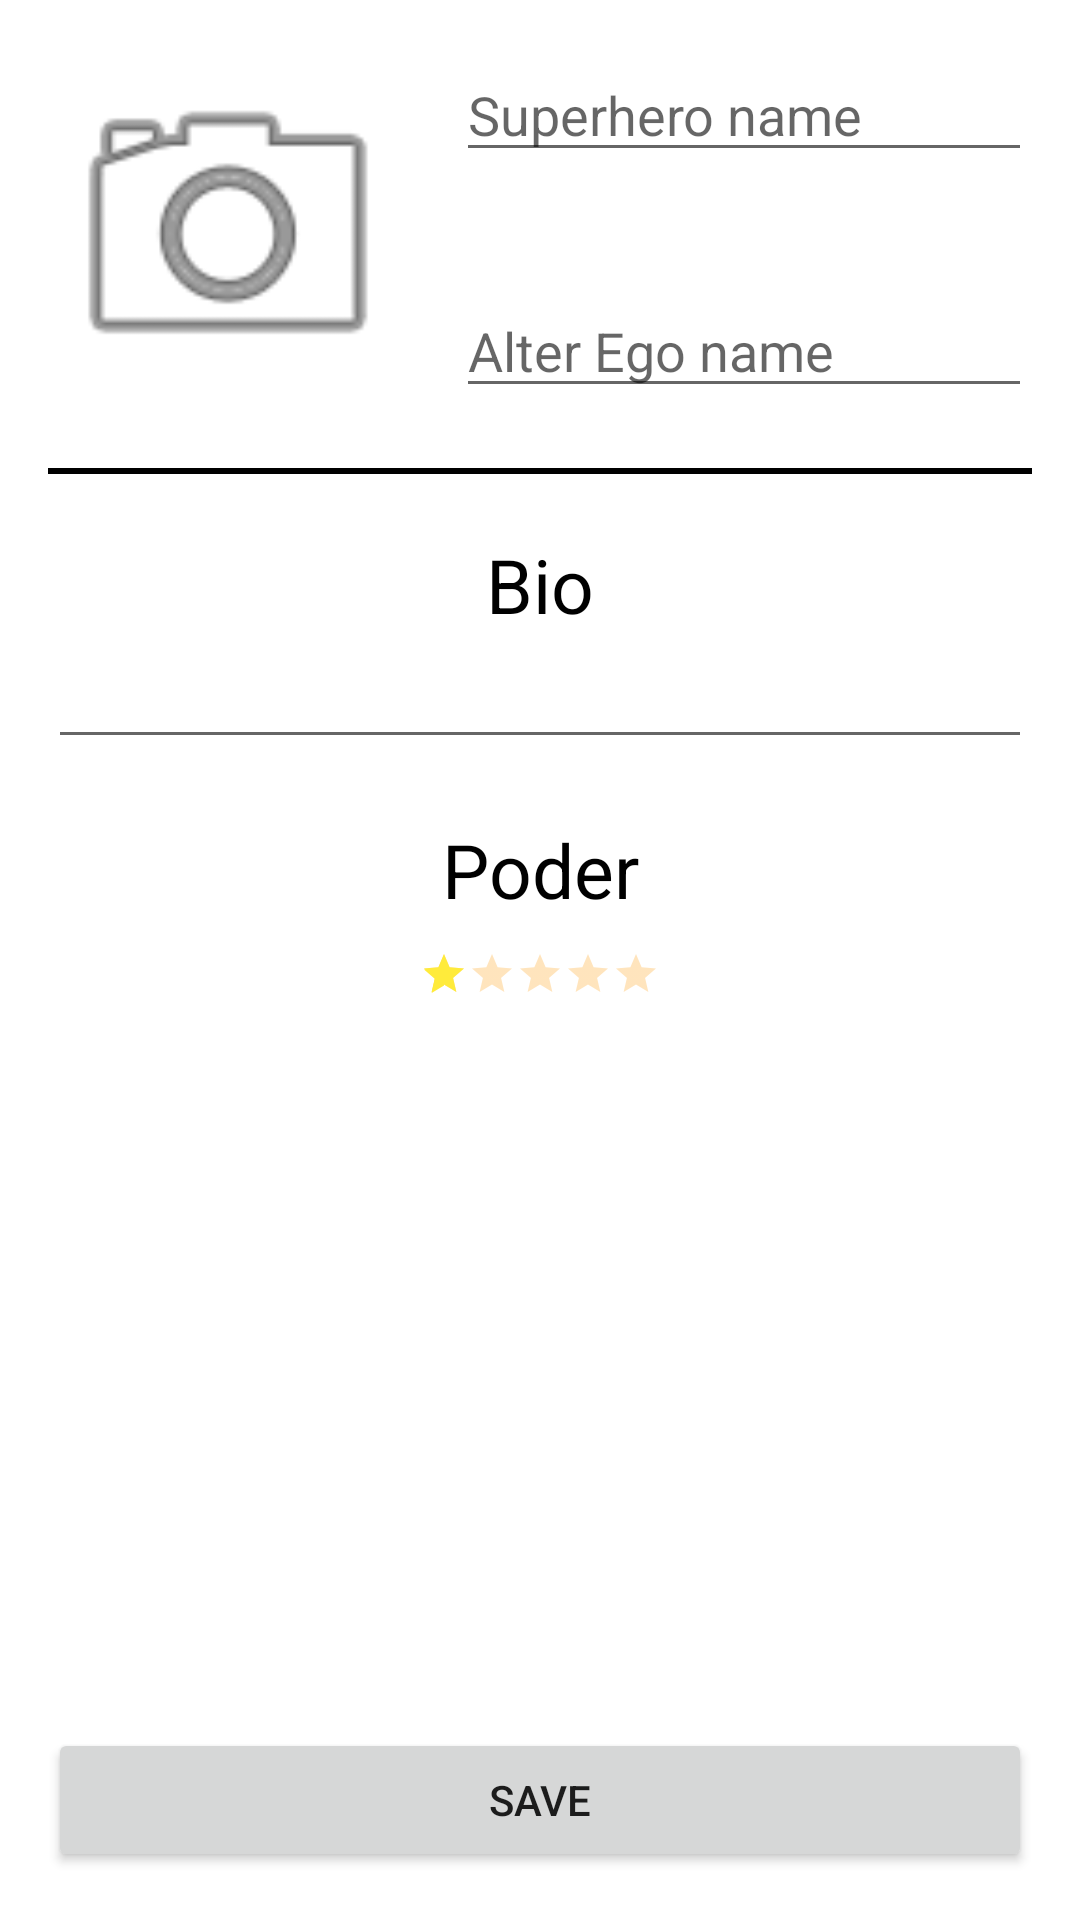

Locate icon controls on the screen. Image size 1080w x 1920h, boxes as (x1, y1, x2, y2).
camera: (89, 111, 367, 333)
